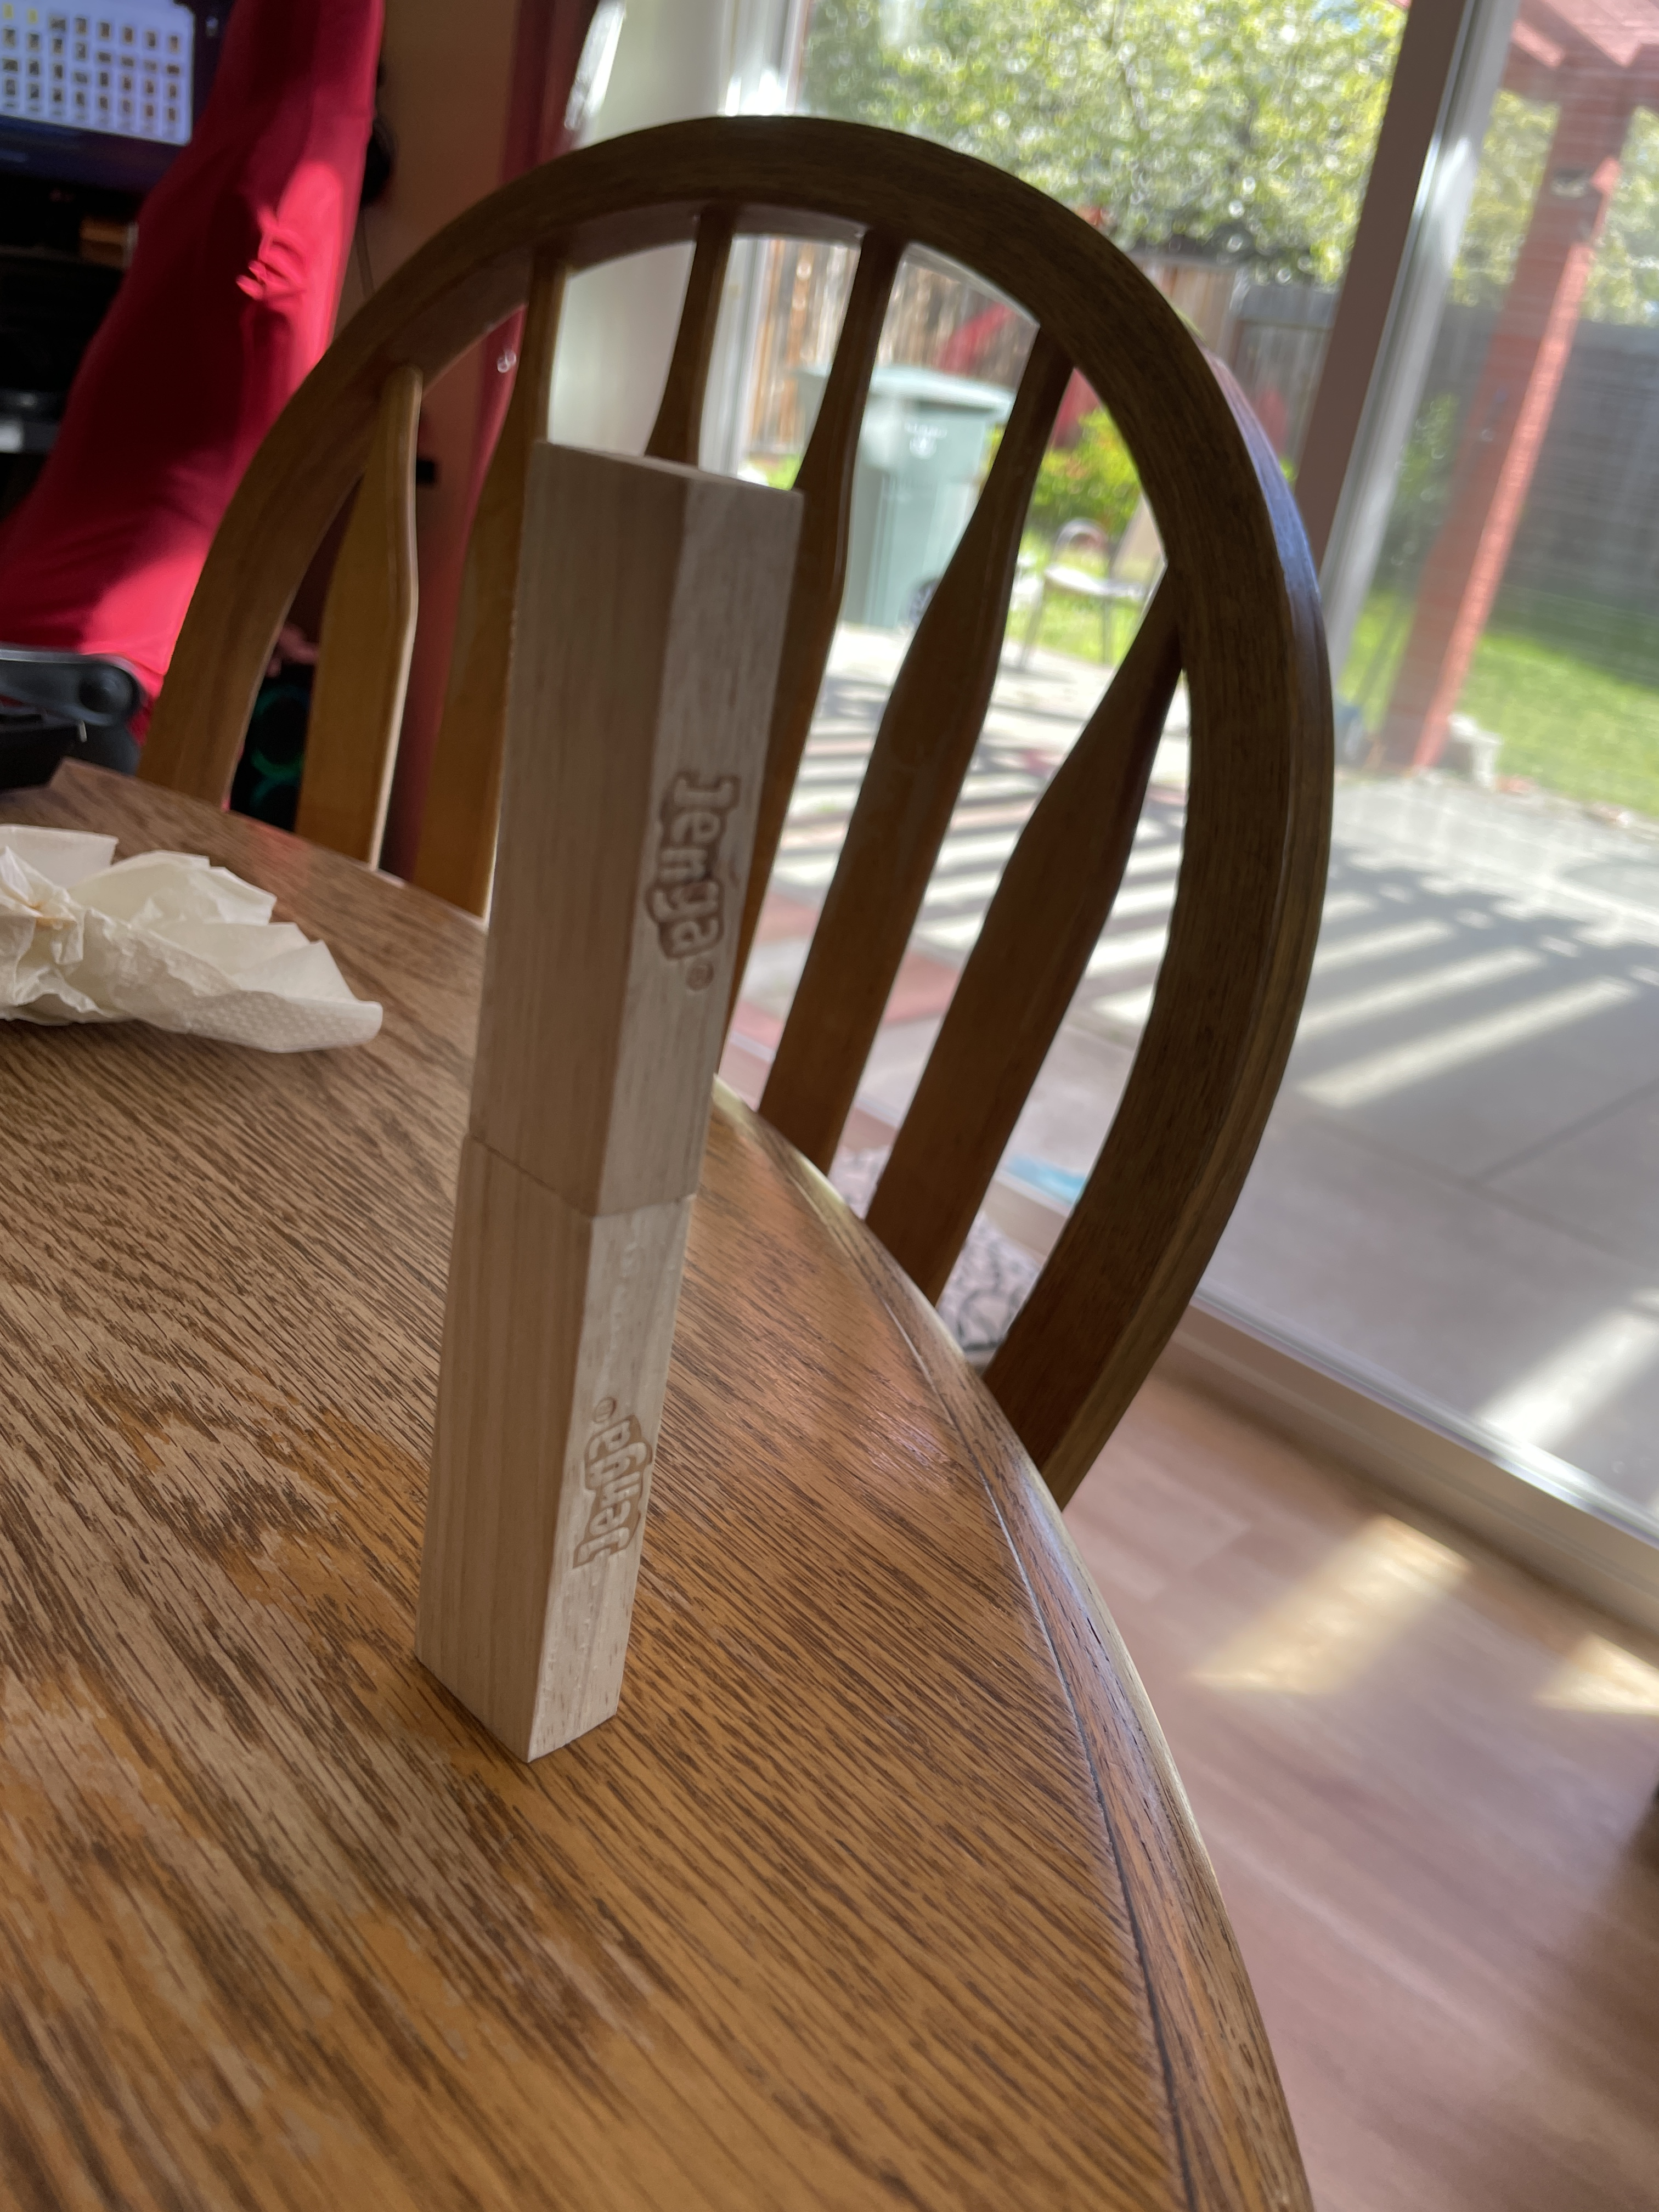jenga: (467, 444, 744, 1217), (446, 1143, 652, 1778)
